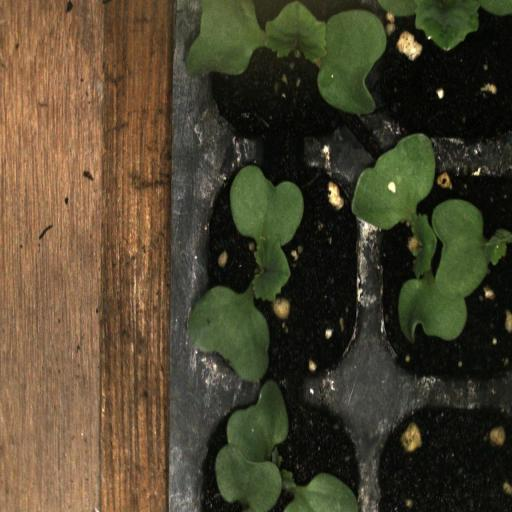Folha: (377, 0, 512, 51)
Germinacao: (188, 164, 369, 391), (370, 164, 512, 393), (187, 0, 370, 164), (191, 391, 369, 512)
